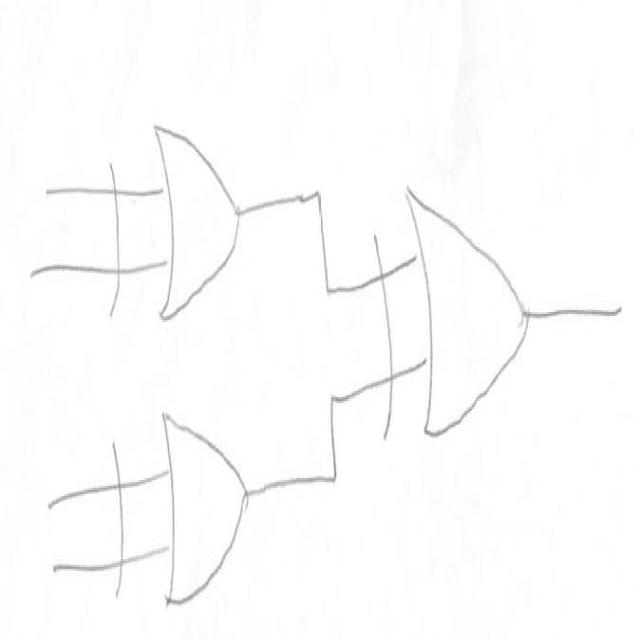XOR: (362, 177, 536, 458), (100, 102, 260, 338), (100, 400, 264, 616)
